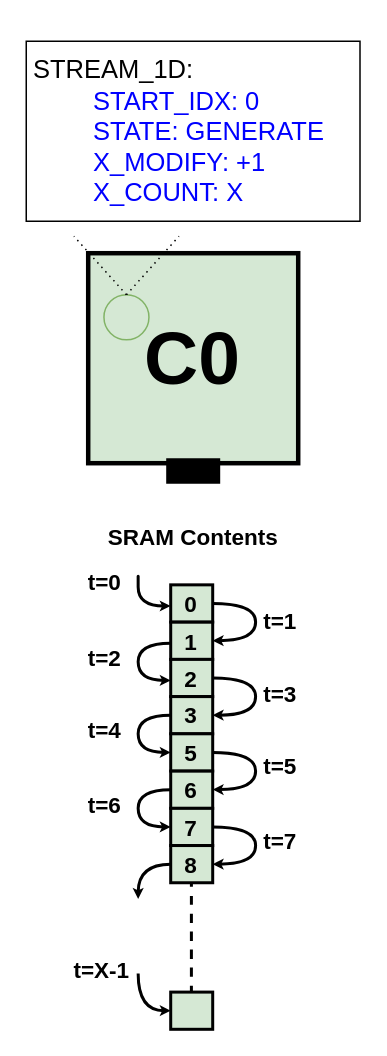
Some shapes in this 387 by 1056 pixel diagram are drawn without their labels. Here are the shapes that lost their labels. From the top down, the centre of each, then its label:
pixel 125 316: RAG
pixel 190 1010: X-1
